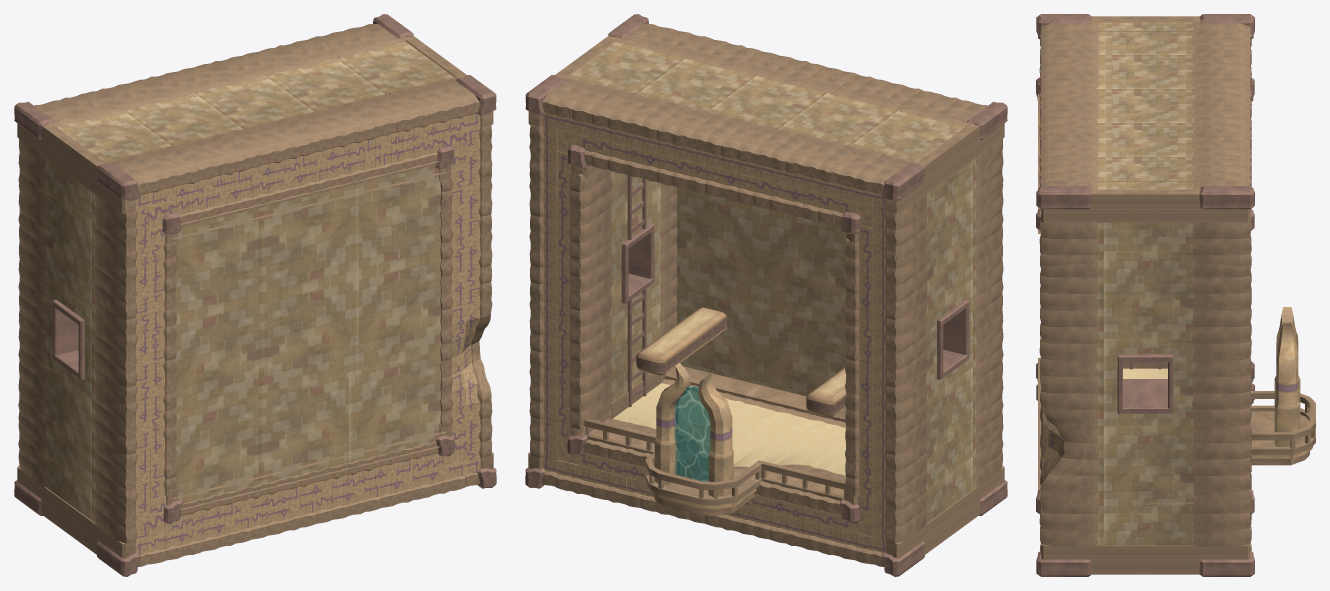
Rendered from StartingRoom.fbx.
3 renders of one model, left to right at view 1: azimuth 30°, elevation 25°; view 2: azimuth 150°, elevation 25°; view 3: azimuth 270°, elevation 25°, orthographic. The views are drawn at different scales.
Parts seen in each view (by area): view 1: RoomEdges_Corridor.001, RoomWall_Corridor.001; view 2: RoomEdges_Corridor.001, RoomWall_Corridor.001; view 3: RoomEdges_Corridor.001, RoomWall_Corridor.001.
Boxes of the visible parts, box(x1,y1,x2,y2) form: RoomEdges_Corridor.001: box(14, 14, 496, 576); RoomWall_Corridor.001: box(173, 161, 445, 510); RoomEdges_Corridor.001: box(525, 14, 1007, 576); RoomWall_Corridor.001: box(665, 187, 846, 422); RoomEdges_Corridor.001: box(1036, 14, 1315, 576); RoomWall_Corridor.001: box(1038, 94, 1041, 490).
Size of the model in its own units: 5315 by 5314 by 3483.
Materials: 10 (10 with a texture image).
